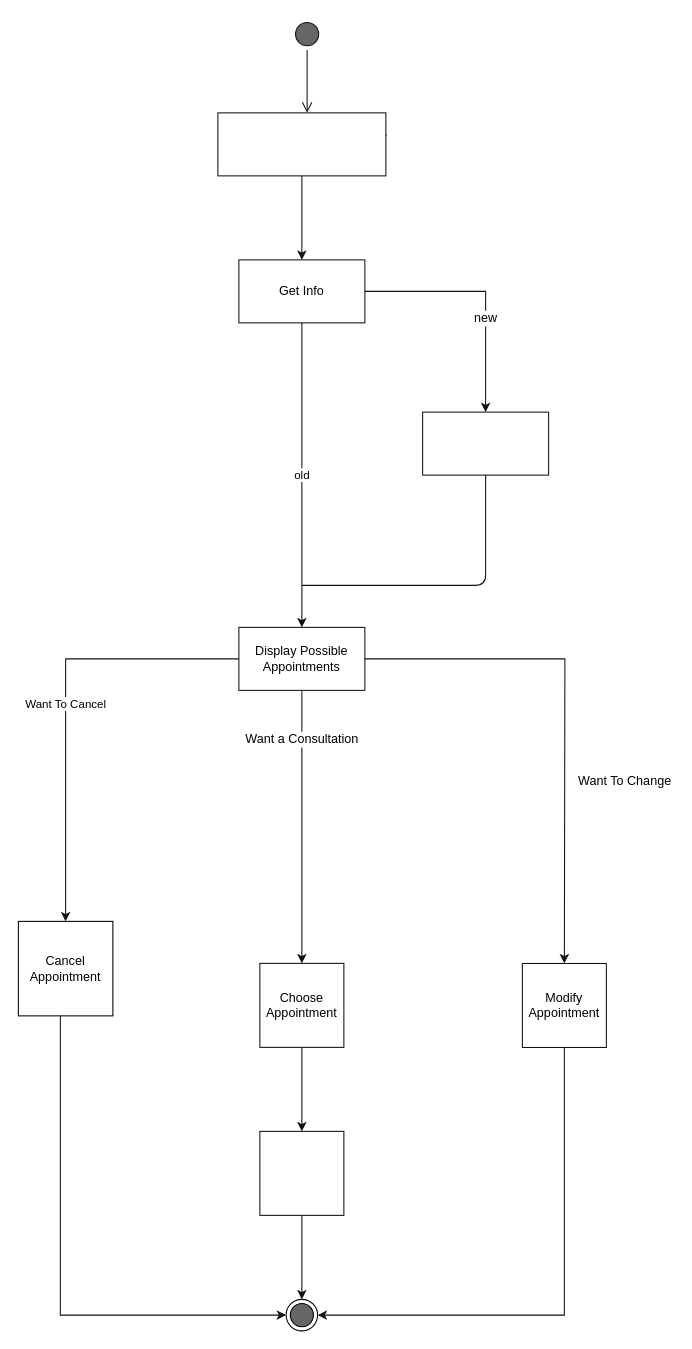
Image size: 692x1349. Some labels were removed from this diagram. Each missing label, with the box of its shape:
Make a New Record: (422, 411, 549, 475)
Patient Enters The Site: (217, 112, 386, 176)
Pay: (259, 1130, 344, 1215)
